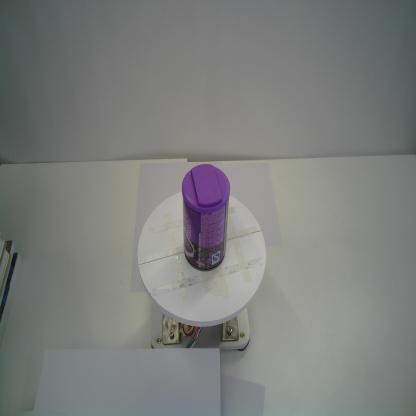Canned Food: (181, 163, 231, 271)
